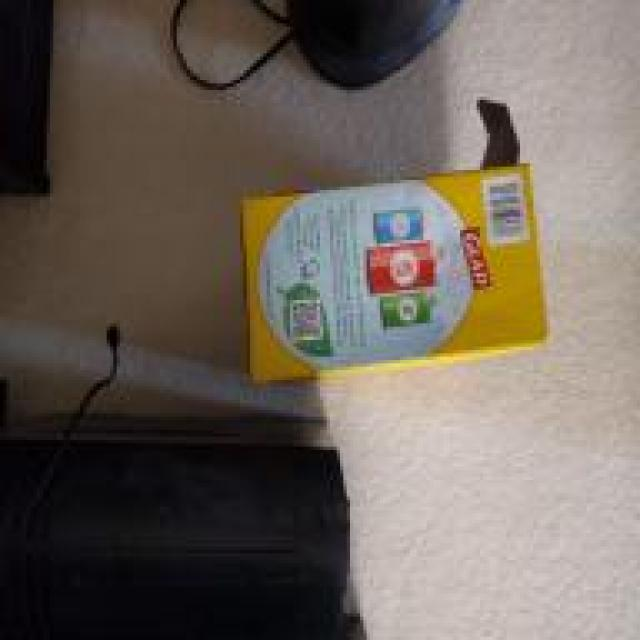QR_CODE: (287, 290, 330, 357)
